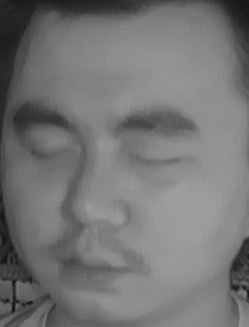blink: (129, 139, 187, 176), (23, 133, 76, 170)
mouth: (50, 237, 130, 292)
